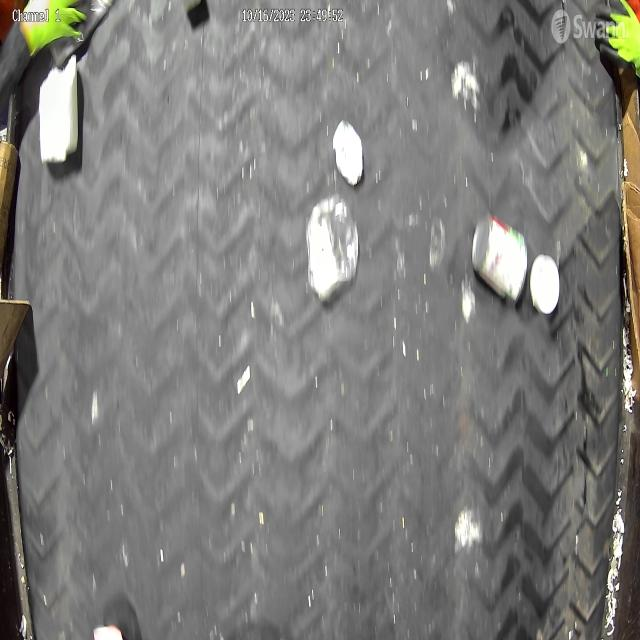can: (472, 211, 529, 307)
